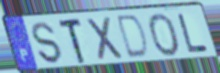D: (116, 13, 151, 60)
L: (175, 12, 210, 55)
O: (147, 12, 183, 58)
S: (31, 21, 64, 66)
T: (58, 17, 87, 66)
X: (85, 16, 127, 64)
